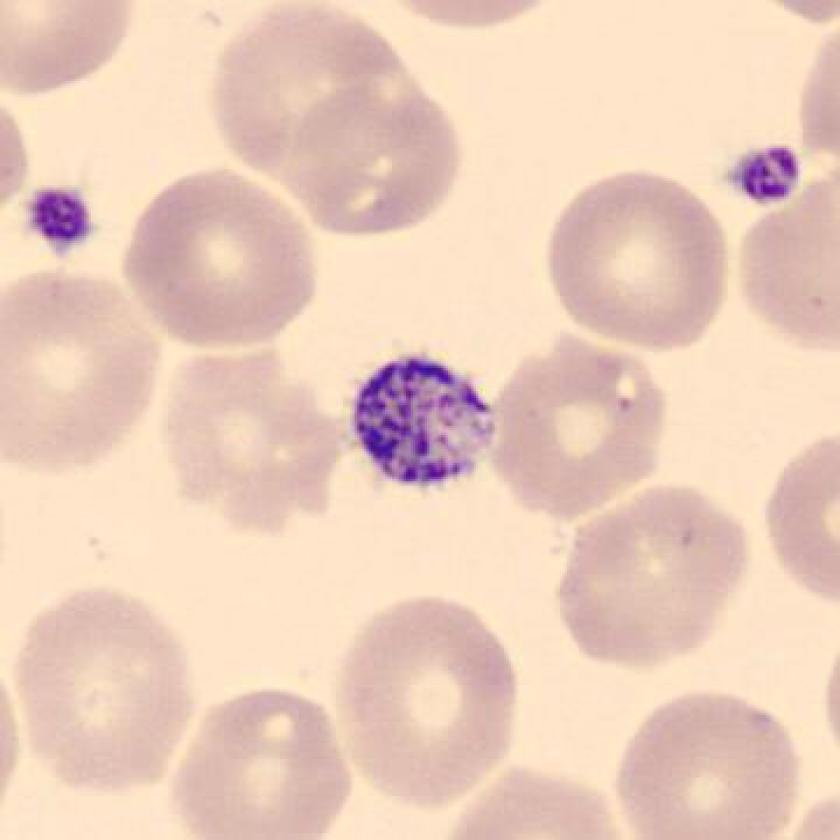platelets: (335, 344, 514, 503), (717, 126, 818, 225), (15, 170, 106, 267)
